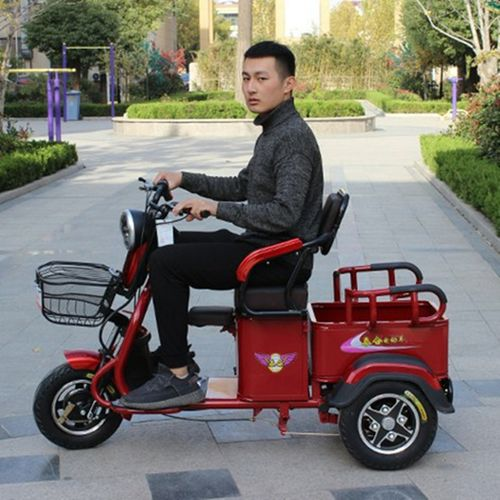driver: (126, 22, 347, 379)
only_driver: (42, 12, 480, 497)
